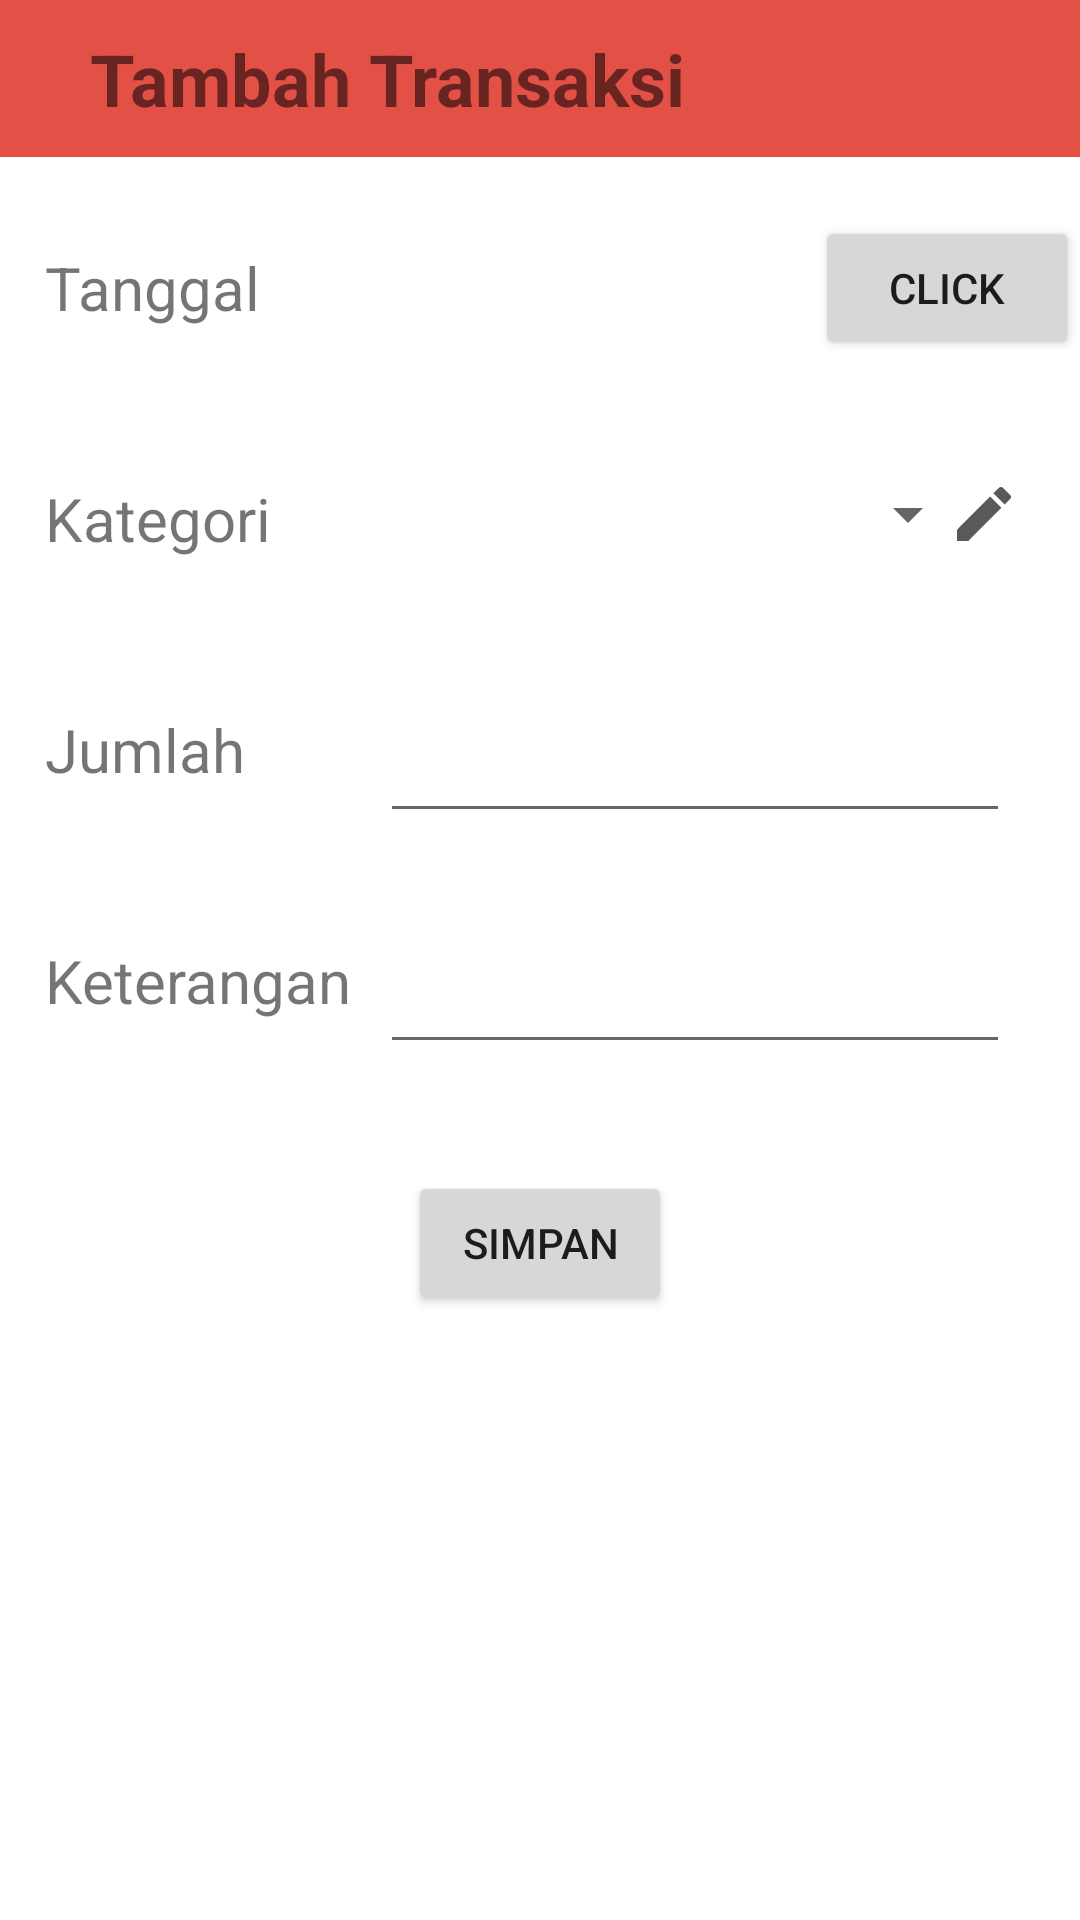

Icon click points for this 1080w x 1920h phone screenshot, format (x=x, y=y):
edit: (x=984, y=514)
